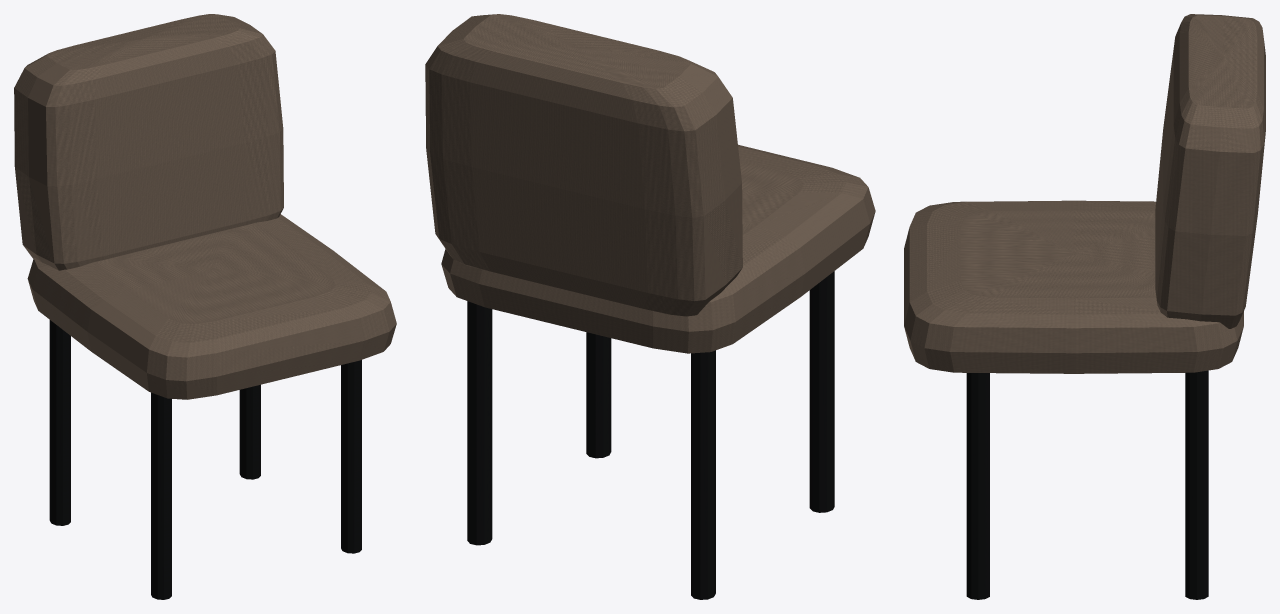
The model's file is dining-chair-upholstered_lod2.glb.
3 renders of one model, left to right at view 1: azimuth 30°, elevation 25°; view 2: azimuth 150°, elevation 25°; view 3: azimuth 270°, elevation 25°, orthographic. The views are drawn at different scales.
Visible parts, largest first — view 1: back, seat, leg_1, leg_3, leg_4, leg_2; view 2: back, seat, leg_2, leg_1, leg_3, leg_4; view 3: seat, back, leg_2, leg_4.
Boxes of the visible parts, x1=… form: back: x1=14, y1=14, x2=283, y2=270; seat: x1=27, y1=214, x2=396, y2=399; leg_1: x1=49, y1=320, x2=70, y2=525; leg_3: x1=151, y1=392, x2=171, y2=599; leg_4: x1=341, y1=360, x2=361, y2=553; leg_2: x1=239, y1=384, x2=260, y2=479; back: x1=425, y1=14, x2=742, y2=316; seat: x1=441, y1=144, x2=875, y2=353; leg_2: x1=467, y1=301, x2=492, y2=545; leg_1: x1=691, y1=350, x2=715, y2=599; leg_3: x1=809, y1=271, x2=834, y2=512; leg_4: x1=586, y1=332, x2=611, y2=458; seat: x1=904, y1=200, x2=1243, y2=373; back: x1=1155, y1=14, x2=1265, y2=328; leg_2: x1=1185, y1=370, x2=1208, y2=599; leg_4: x1=966, y1=373, x2=989, y2=599.
Bounding box in the file's own units: 0.5 × 0.86 × 0.58.
2 materials, 2 textured.
